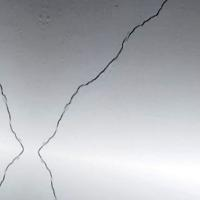crack: (23, 0, 167, 199)
